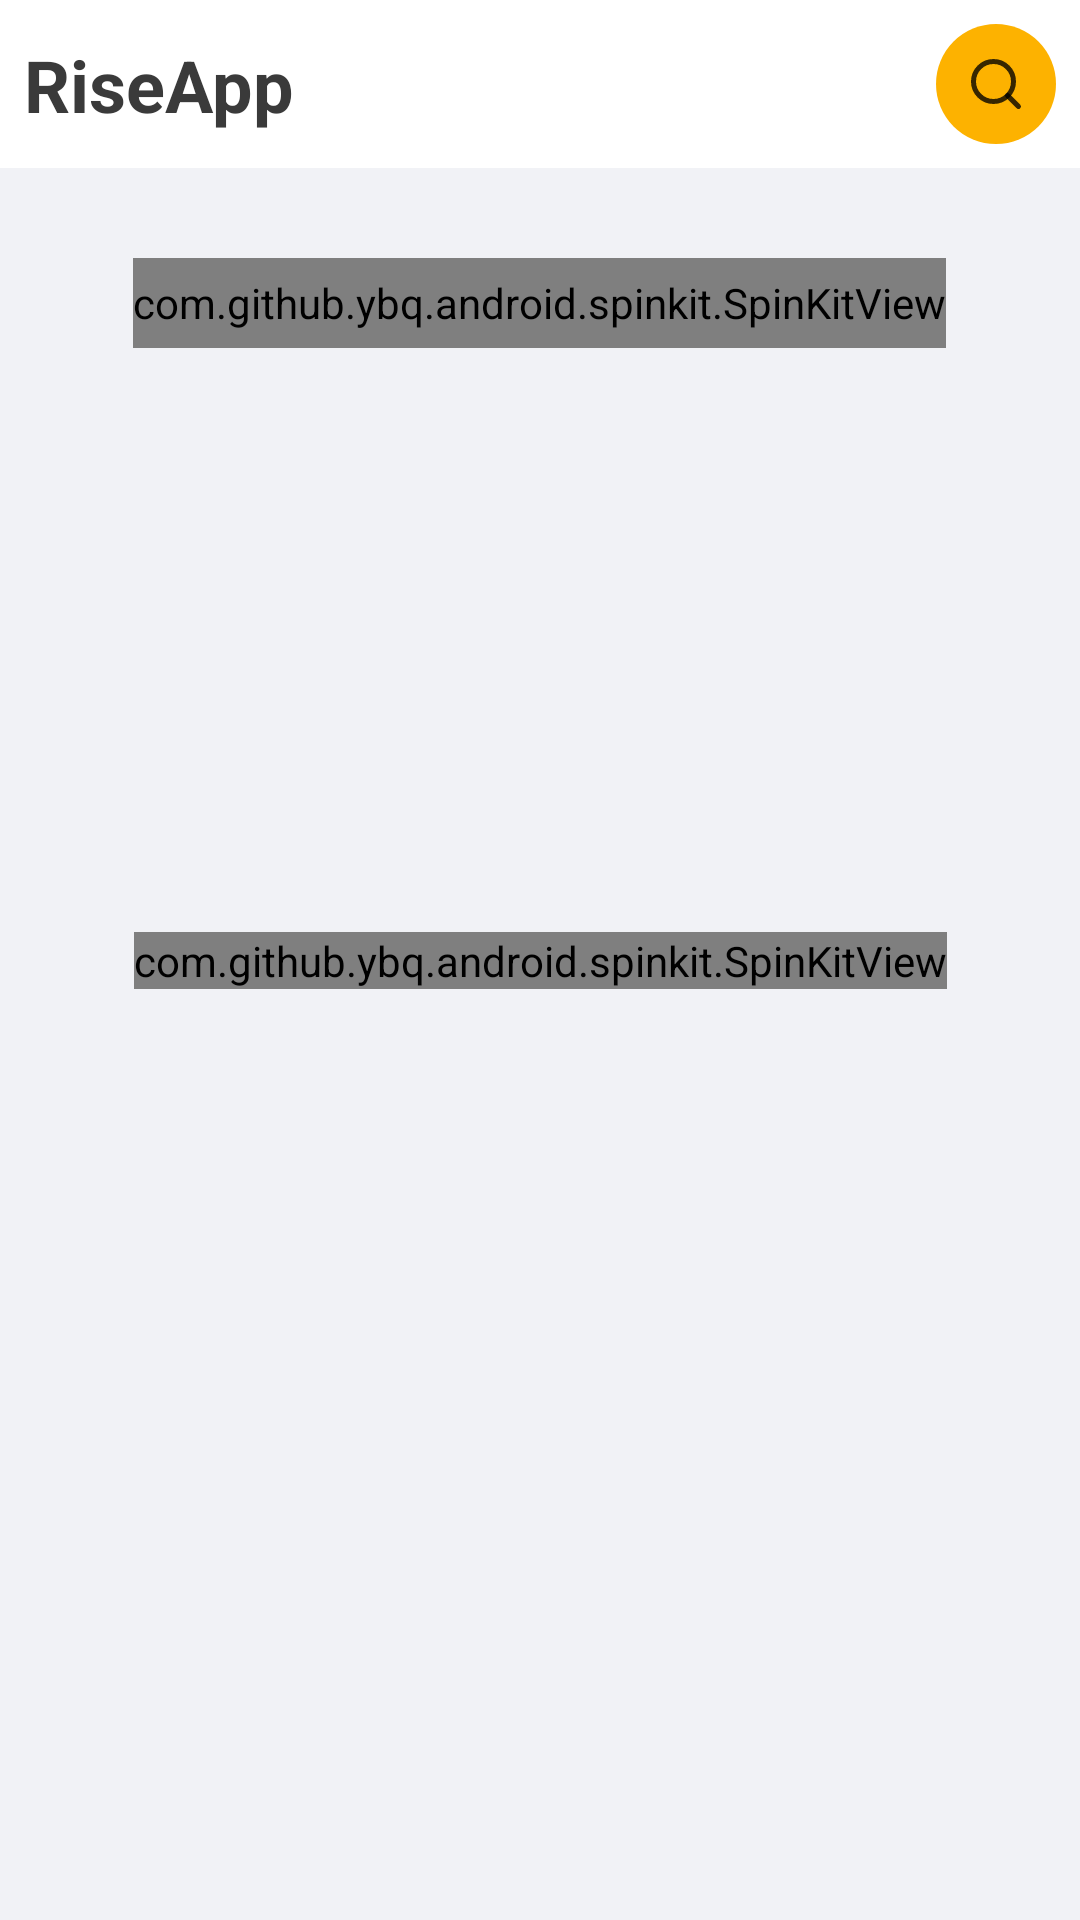

Icon click points for this 1080 x 1920 phone screenshot, format (x=x, y=y):
search: (x=996, y=84)
